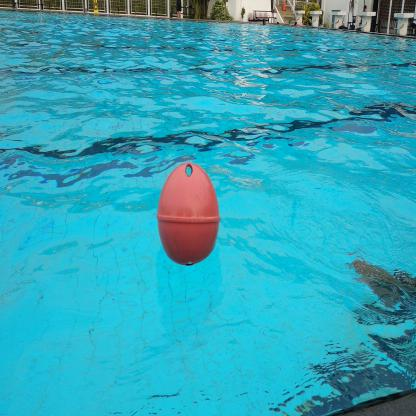red_buoy: (156, 150, 222, 278)
